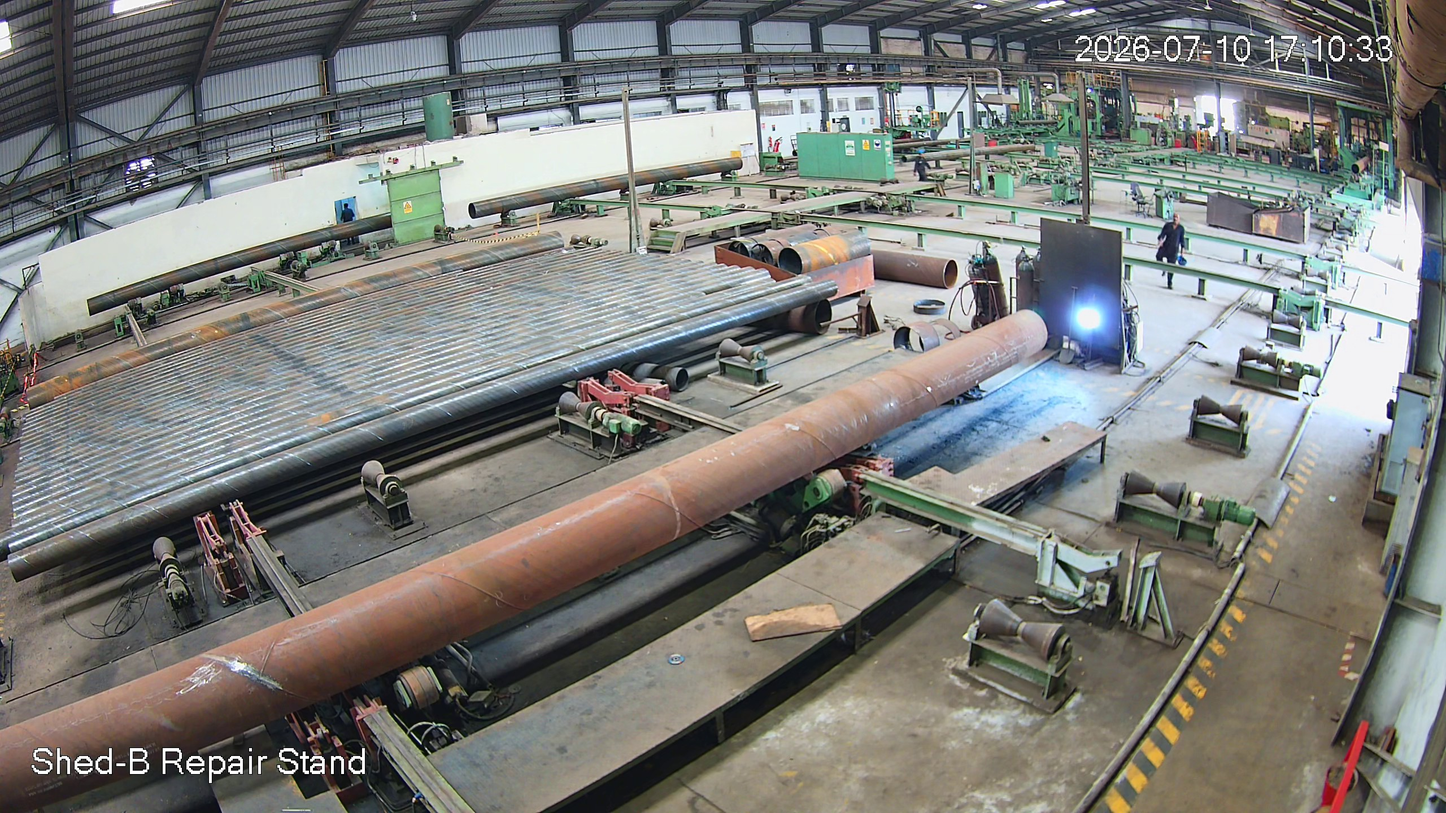Person: (1159, 209, 1186, 289)
